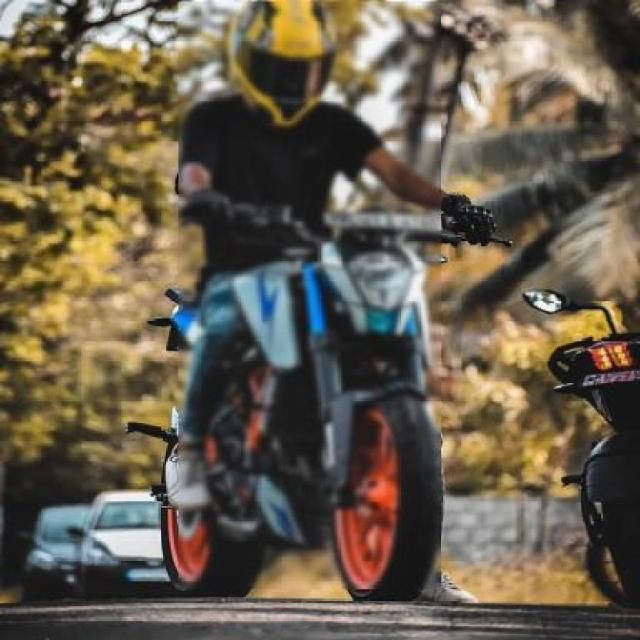helmet: (202, 0, 360, 130)
motorcycle: (117, 0, 504, 607)
